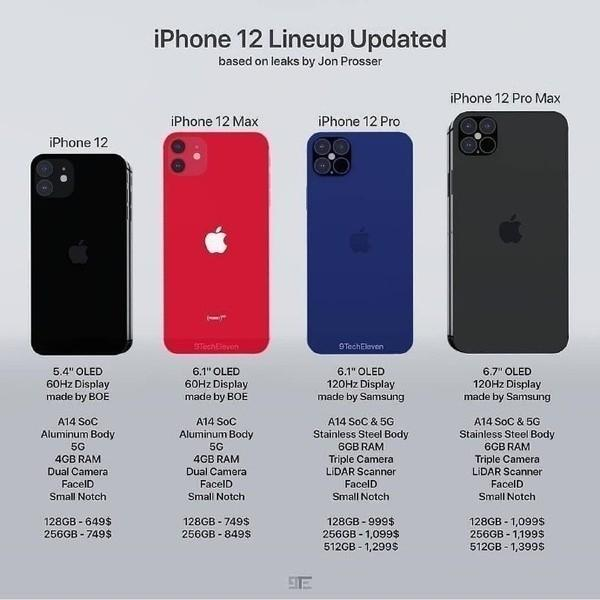phone: (451, 111, 570, 353), (161, 131, 272, 354), (310, 133, 414, 354), (27, 154, 133, 356)
